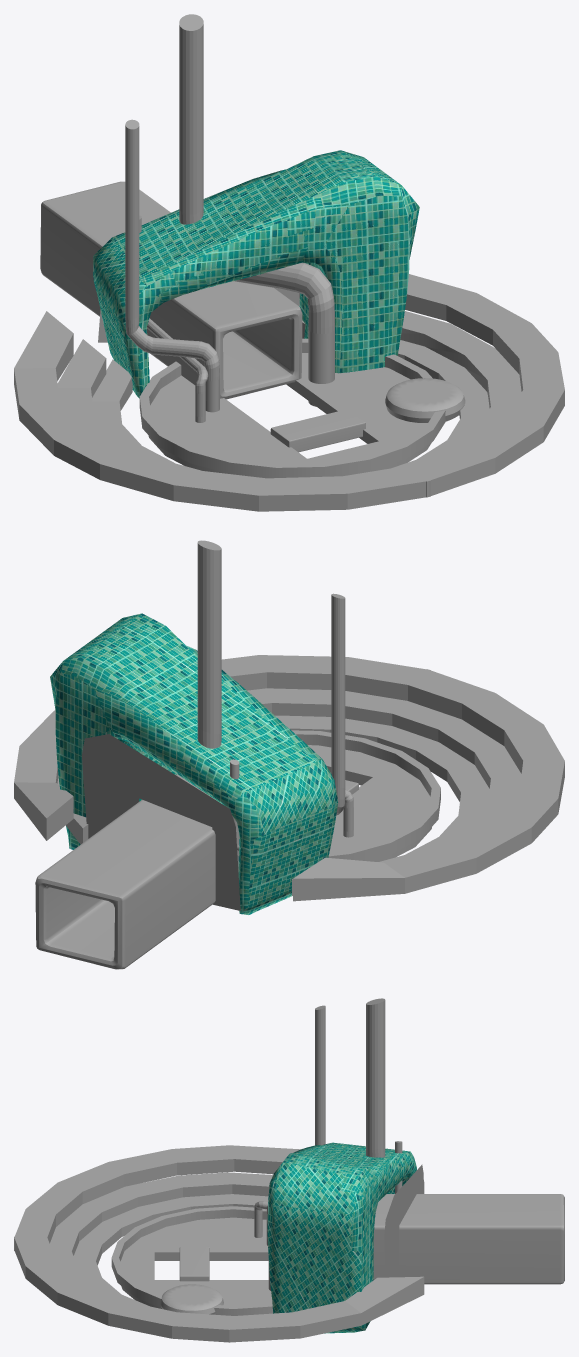
Rendered from scenografiawstepna3.fbx.
3 renders of one model, top to bottom at view 1: azimuth 30°, elevation 25°; view 2: azimuth 150°, elevation 25°; view 3: azimuth 270°, elevation 25°, orthographic. The views are drawn at different scales.
Visible parts, largest first — view 1: polySurface1, pCube24, pCube8, pCube20, pCylinder16, pCylinder5, pCylinder17, pCylinder7, pCube19, pCylinder15, pCube26, pCube18 (+1 smaller); view 2: polySurface1, pCube8, pCube20, pCube24, polySurface2, pCylinder16, pCube19, pCylinder5, pCube18, pCylinder17, pCylinder7, pCylinder6; view 3: polySurface1, pCube8, pCube24, pCube20, pCylinder16, pCube19, pCube18, pCylinder17, pCylinder5, polySurface2, pCylinder7, pCylinder15 (+2 smaller).
Part boxes in pixels (<box>): polySurface1: <box>93,150,419,398</box>; pCube24: <box>299,274,564,497</box>; pCube8: <box>40,181,302,399</box>; pCube20: <box>14,311,430,511</box>; pCylinder16: <box>148,353,431,476</box>; pCylinder5: <box>179,14,334,406</box>; pCylinder17: <box>139,338,445,478</box>; pCylinder7: <box>125,119,219,412</box>; pCube19: <box>57,339,150,457</box>; pCylinder15: <box>385,378,465,422</box>; pCube26: <box>270,409,365,452</box>; pCube18: <box>92,359,200,470</box>; polySurface1: <box>50,613,338,914</box>; pCube8: <box>35,774,239,969</box>; pCube20: <box>293,669,564,901</box>; pCube24: <box>14,655,430,844</box>; polySurface2: <box>82,734,240,910</box>; pCylinder16: <box>308,745,431,861</box>; pCube19: <box>390,701,521,851</box>; pCylinder5: <box>197,540,221,748</box>; pCube18: <box>292,725,489,895</box>; pCylinder17: <box>291,730,440,860</box>; pCylinder7: <box>331,593,345,815</box>; pCylinder6: <box>230,759,353,851</box>; polySurface1: <box>267,1142,416,1333</box>; pCube8: <box>373,1194,564,1284</box>; pCube24: <box>14,1236,424,1342</box>; pCube20: <box>14,1145,424,1250</box>; pCylinder16: <box>120,1217,272,1308</box>; pCube19: <box>50,1172,272,1255</box>; pCube18: <box>73,1194,268,1265</box>; pCylinder17: <box>111,1206,272,1315</box>; pCylinder5: <box>268,998,385,1290</box>; polySurface2: <box>384,1164,423,1277</box>; pCylinder7: <box>266,1005,325,1245</box>; pCylinder15: <box>160,1284,223,1314</box>.
Bounding box in the file's own units: 85.38 × 61.51 × 108.
Materials: 2 (1 with a texture image).
